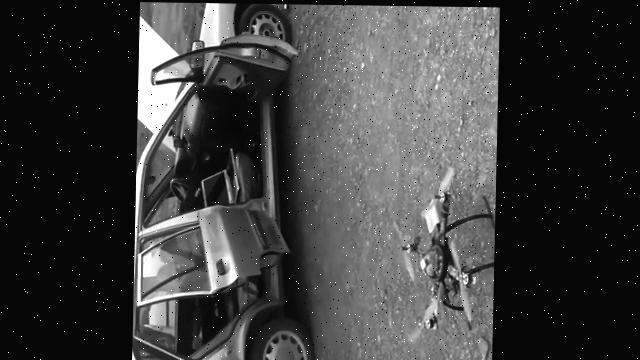drone: (400, 168, 496, 337)
